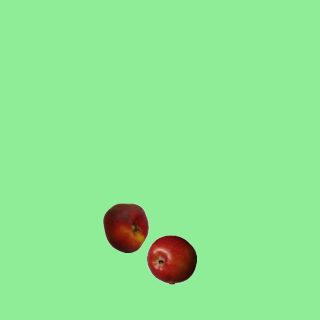Apple Braeburn: (146, 234, 196, 284)
Nectarine Flat: (100, 202, 150, 252)
